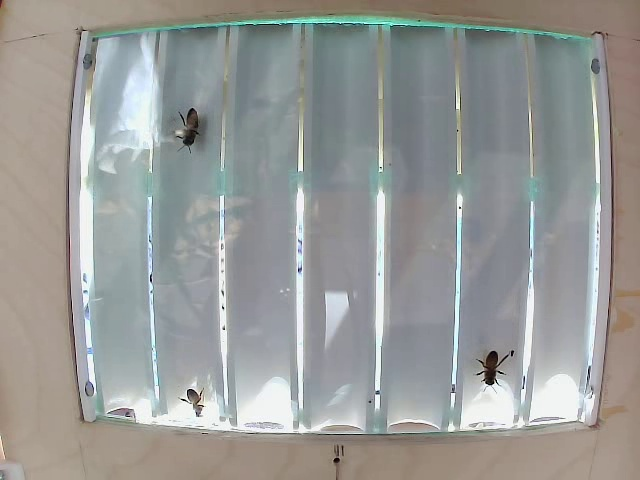bee: (474, 336, 517, 393), (168, 106, 206, 155), (178, 376, 217, 411)
